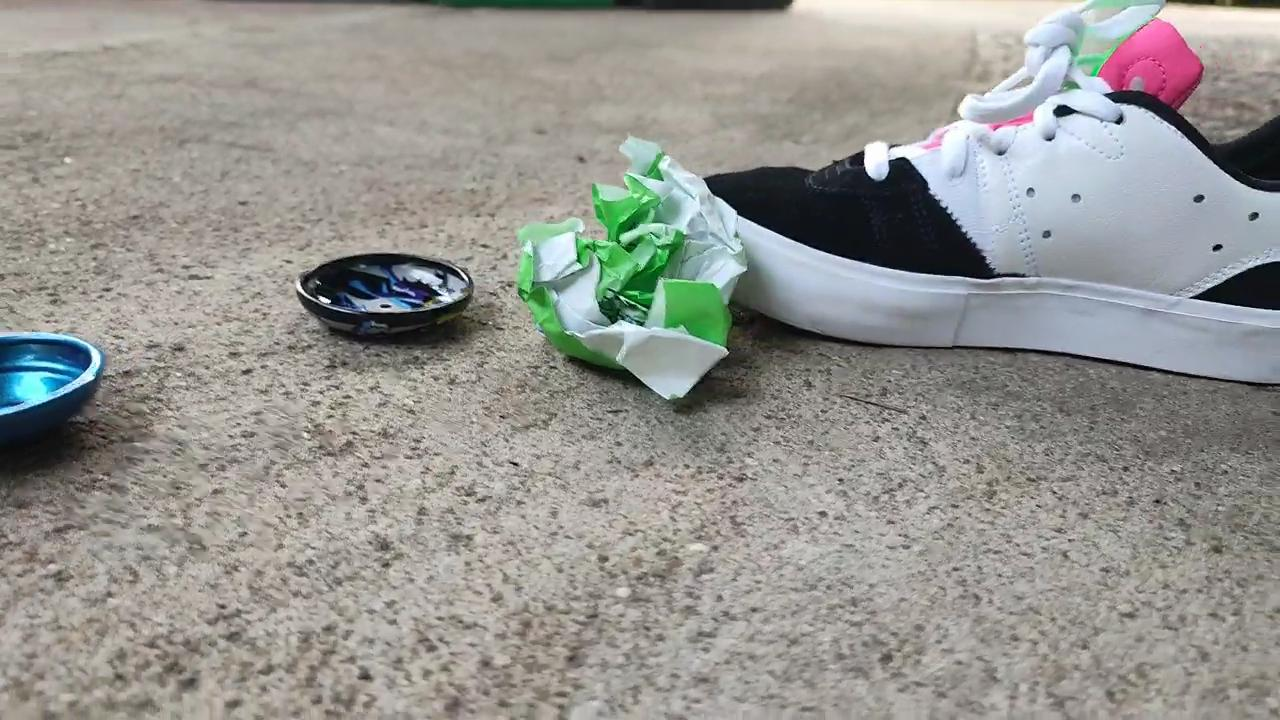Paper: (501, 127, 752, 426)
